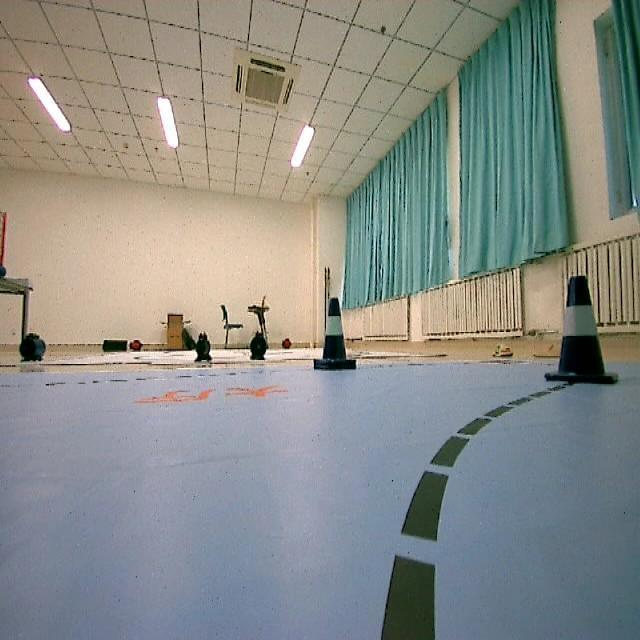obstacle: (540, 266, 620, 396), (310, 288, 360, 386)
